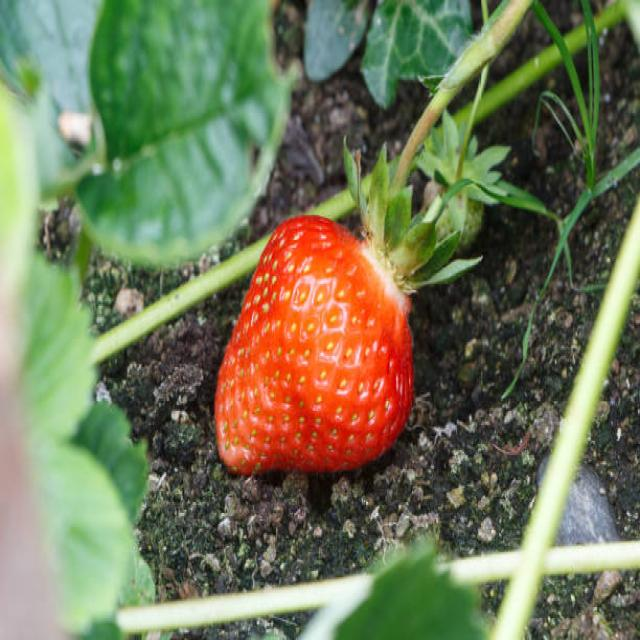Healthy Fruit: (216, 213, 414, 476)
